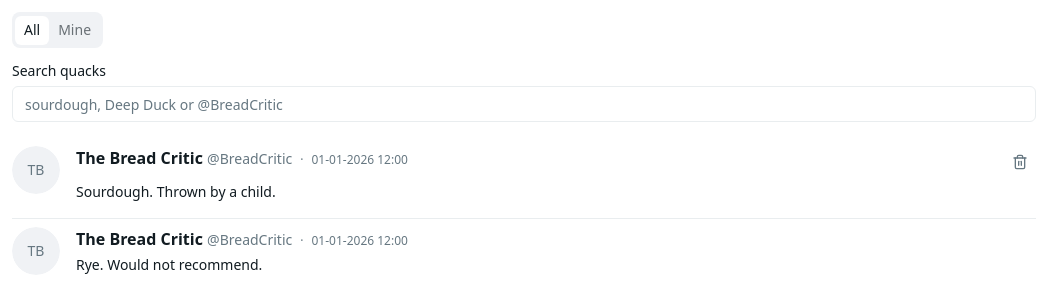
QuackFeed › All and Mine › shows only my quacks on Mine
The image size is (1048, 292).
Expected: the text "Rye. Would not recommend." is shown, [76,255,262,274]
Click the tab "Mine" at (75, 30), box [49,16,100,44]
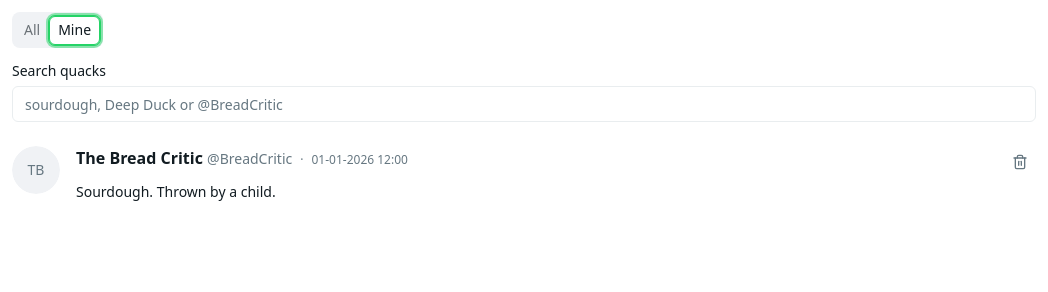
Expected: the text "Sourdough. Thrown by a child." is shown, [76,182,276,201]
Expected: the text "Rye. Would not recommend." is gone
